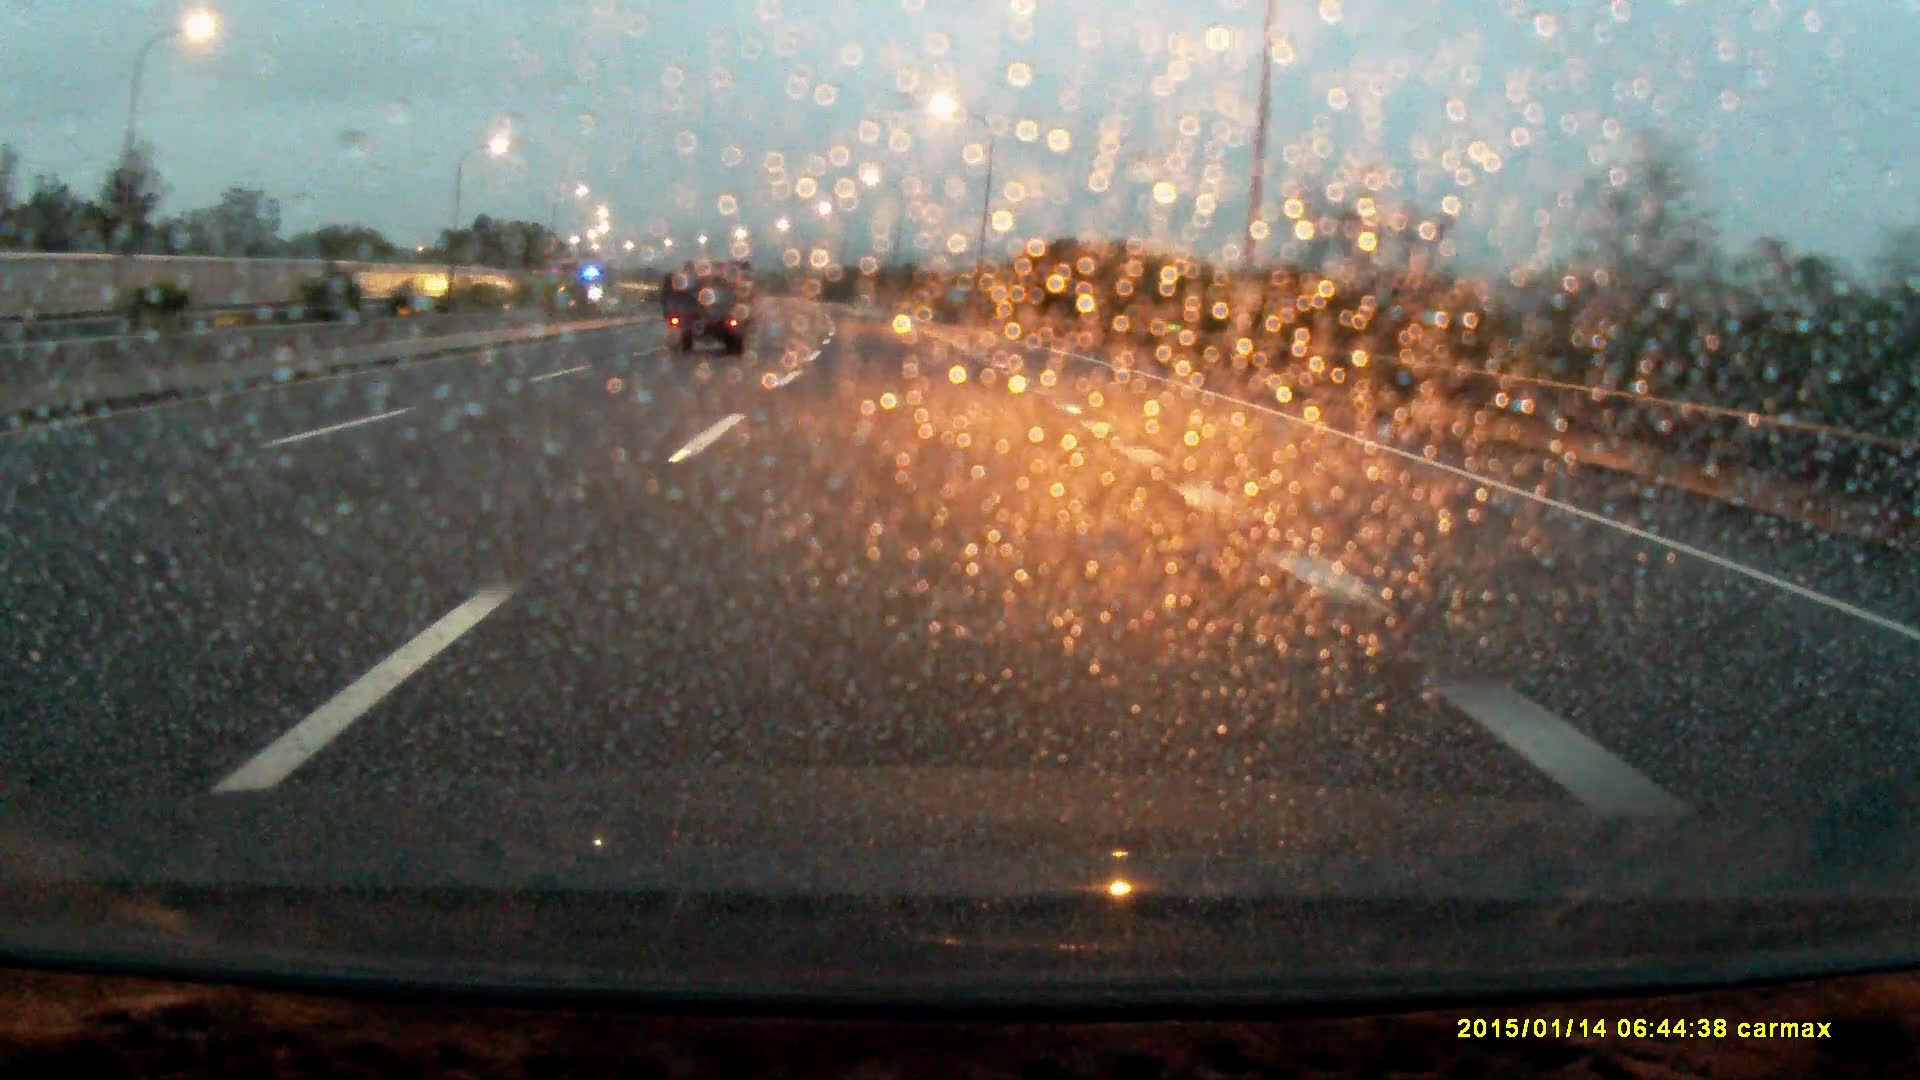vehicle: (669, 264, 758, 363)
